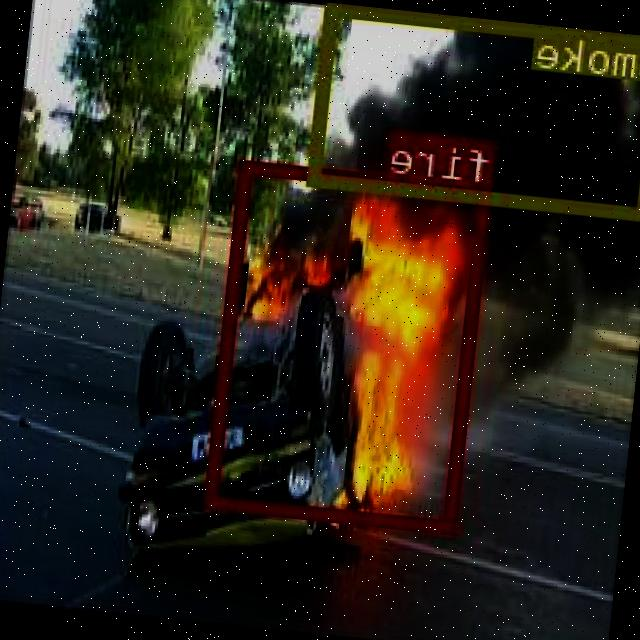fire: (207, 160, 493, 532)
smoke: (310, 0, 640, 217)
